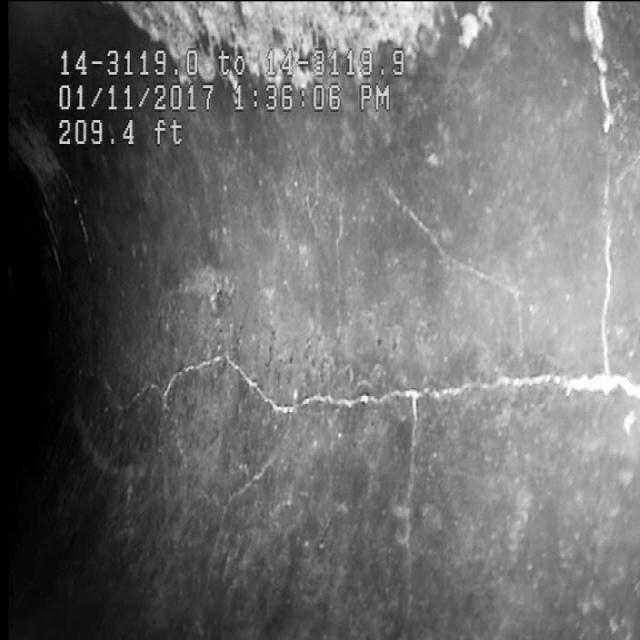Crack: (100, 312, 608, 436)
